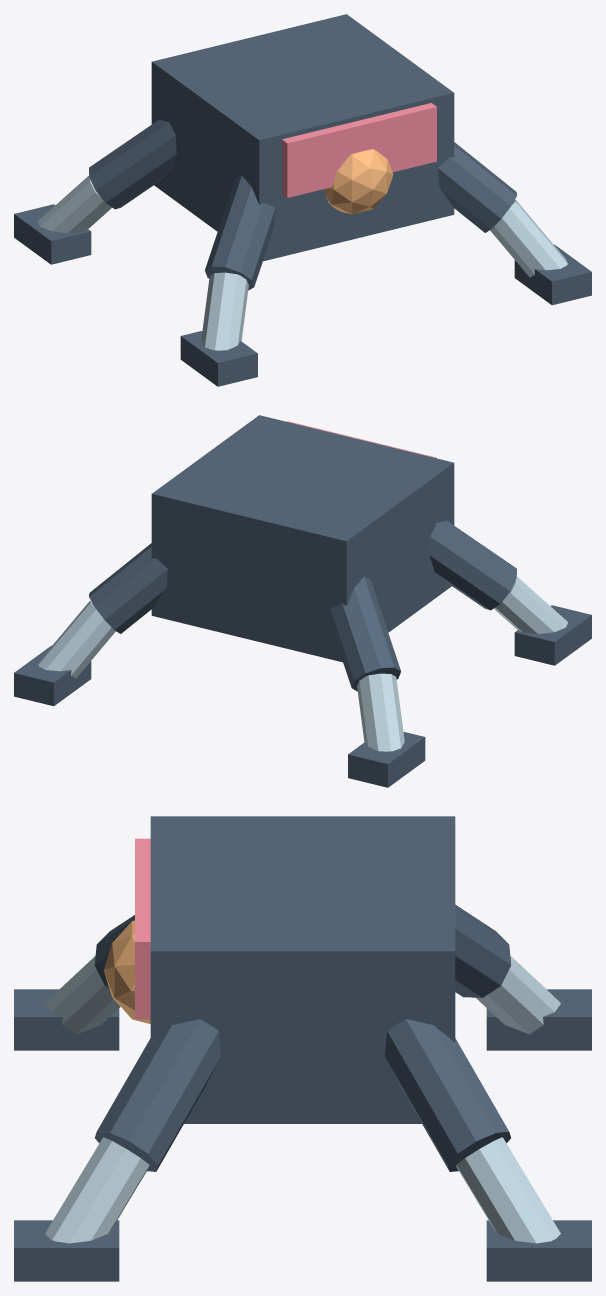
File: assault_crab.glb
3 renders of one model, top to bottom at view 1: azimuth 30°, elevation 25°; view 2: azimuth 150°, elevation 25°; view 3: azimuth 270°, elevation 25°, orthographic. The views are drawn at different scales.
Visible parts, largest first — view 1: walker_body_0, armored_eye_1, piston_leg_3, piston_leg_6, piston_leg_12, energy_core_2, leg_servo_7, leg_servo_13, foot_8, foot_5, foot_14, leg_servo_4; view 2: walker_body_0, piston_leg_6, piston_leg_3, piston_leg_9, leg_servo_4, leg_servo_10, foot_5, foot_8, foot_11, leg_servo_7; view 3: walker_body_0, piston_leg_9, piston_leg_12, leg_servo_10, leg_servo_13, foot_11, foot_14, foot_5, foot_8, piston_leg_3, leg_servo_4, leg_servo_7 (+3 smaller).
Part boxes in pixels (box(x1,y1,x2,y2)): walker_body_0: box(151, 14, 454, 261); armored_eye_1: box(282, 103, 436, 197); piston_leg_3: box(89, 119, 176, 209); piston_leg_6: box(205, 175, 275, 290); piston_leg_12: box(438, 142, 516, 232); energy_core_2: box(324, 149, 393, 214); leg_servo_7: box(201, 272, 248, 350); leg_servo_13: box(490, 199, 567, 277); foot_8: box(180, 331, 257, 386); foot_5: box(14, 204, 91, 264); foot_14: box(514, 244, 591, 305); leg_servo_4: box(38, 175, 112, 233); walker_body_0: box(151, 415, 454, 662); piston_leg_6: box(429, 520, 516, 610); piston_leg_3: box(330, 576, 400, 691); piston_leg_9: box(89, 543, 167, 633); leg_servo_4: box(357, 673, 404, 751); leg_servo_10: box(38, 600, 115, 678); foot_5: box(348, 732, 425, 787); foot_8: box(514, 605, 591, 665); foot_11: box(14, 645, 91, 706); leg_servo_7: box(493, 576, 567, 634); walker_body_0: box(150, 816, 455, 1123); piston_leg_9: box(385, 1019, 510, 1171); piston_leg_12: box(95, 1019, 220, 1171); leg_servo_10: box(456, 1137, 560, 1243); leg_servo_13: box(45, 1137, 149, 1243); foot_11: box(486, 1220, 591, 1281); foot_14: box(14, 1220, 119, 1281); foot_5: box(486, 989, 591, 1050); foot_8: box(14, 989, 119, 1050); piston_leg_3: box(455, 904, 511, 997); leg_servo_4: box(476, 956, 560, 1034); leg_servo_7: box(45, 956, 120, 1034).
Size of the model in its own units: 1.61 by 0.7819 by 1.52.
